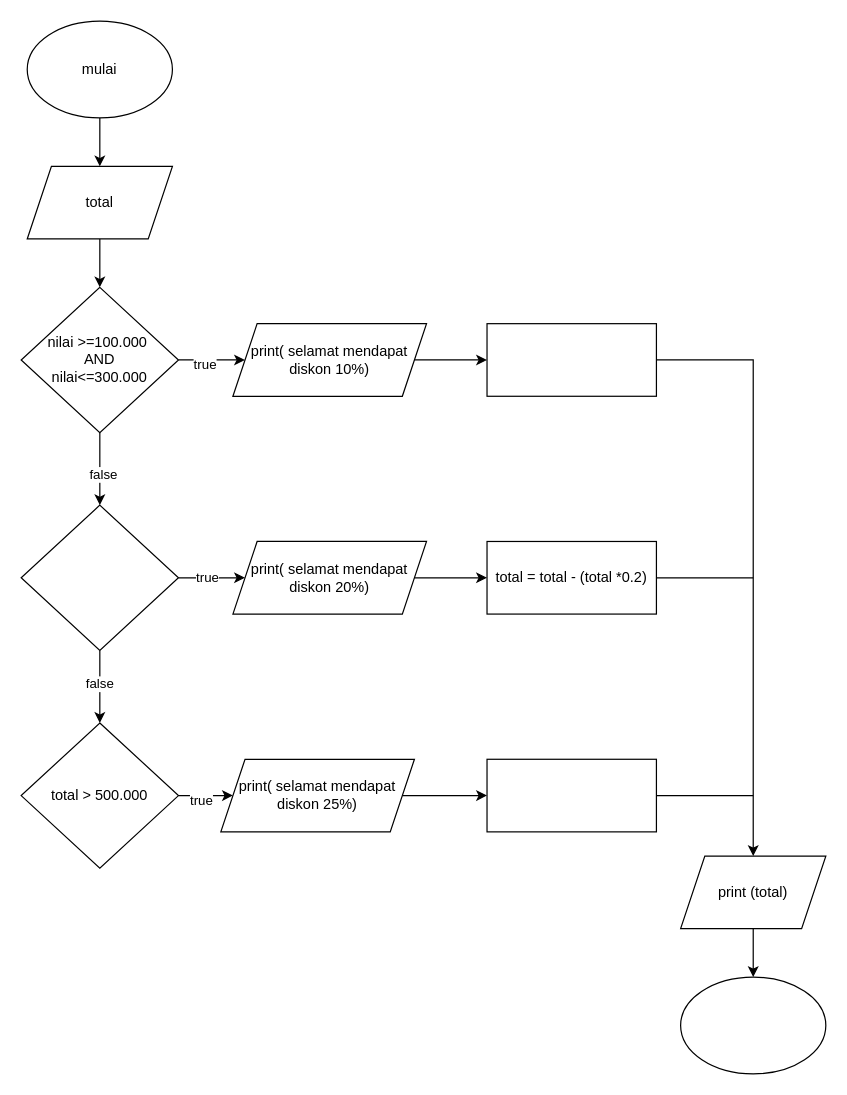
The diagram is 847 pixels wide and 1095 high, and some of its shapes have lost their labels. The box of each missing label's shape, as (x1, y1, x2, y2) in pixels:
nilai >=300.001 AND nilai<=500.000: (20, 504, 178, 650)
selesai: (679, 976, 826, 1074)
total = total - (total *0.1): (486, 322, 656, 396)
total = total - (total *0.25): (486, 758, 656, 832)
